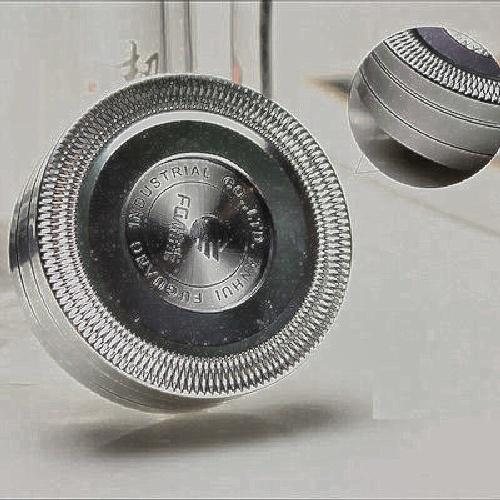mug: (28, 78, 352, 418)
